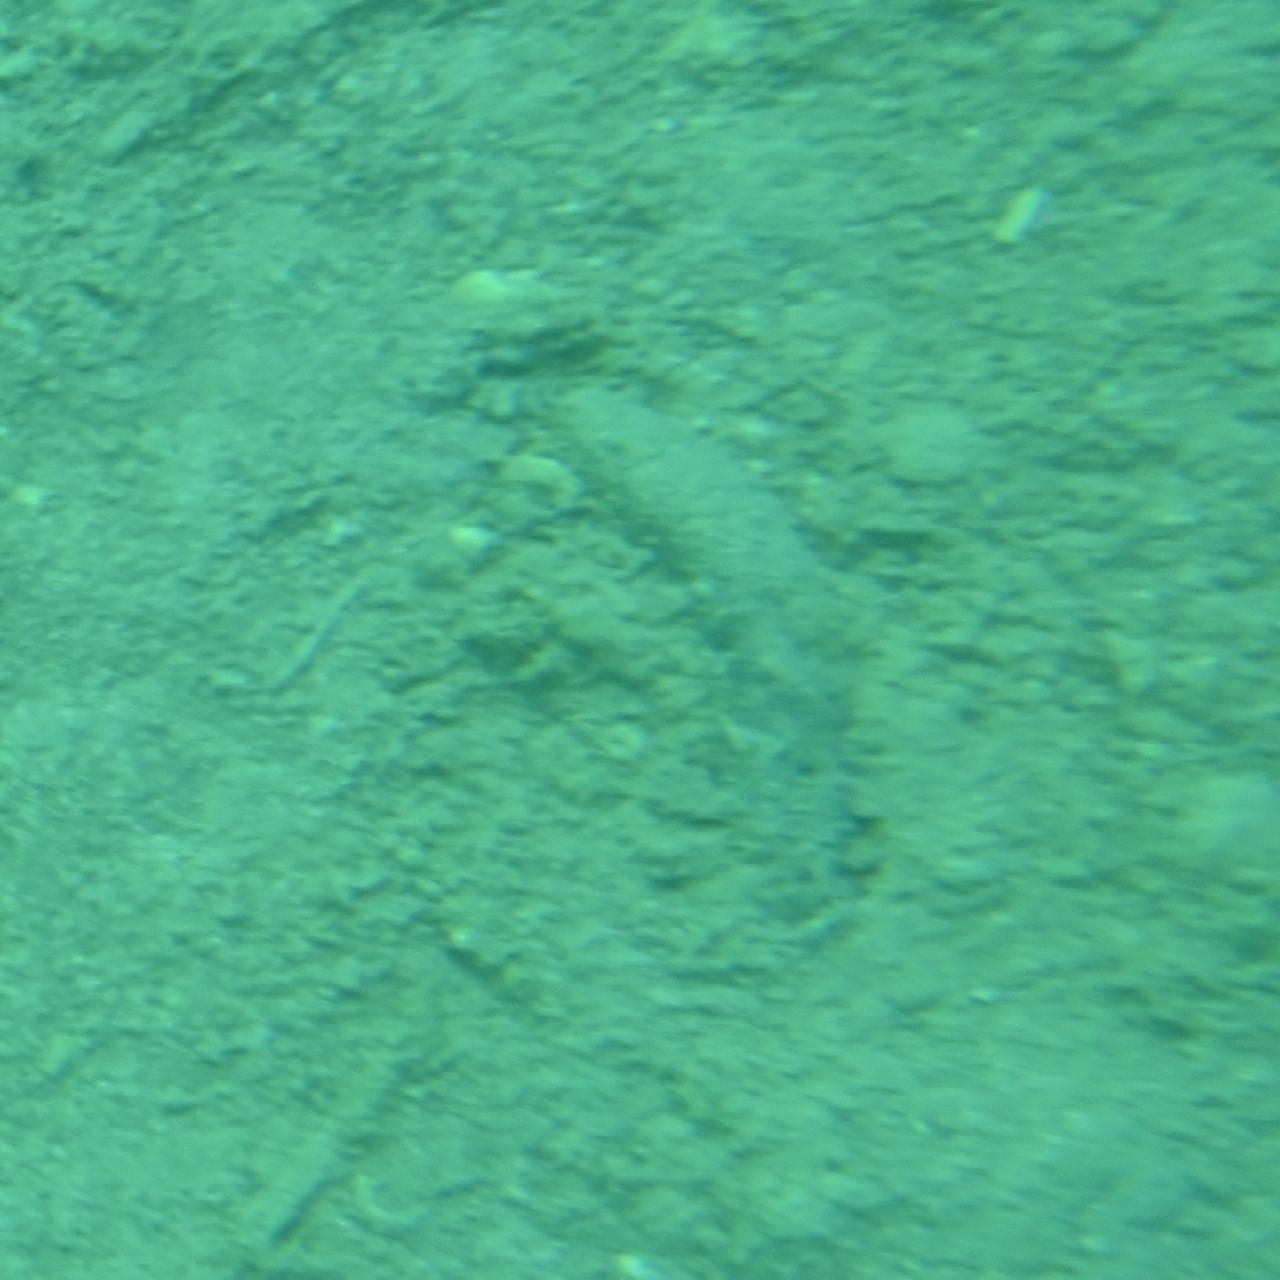Holothuria tubulosa: (533, 340, 892, 940)
